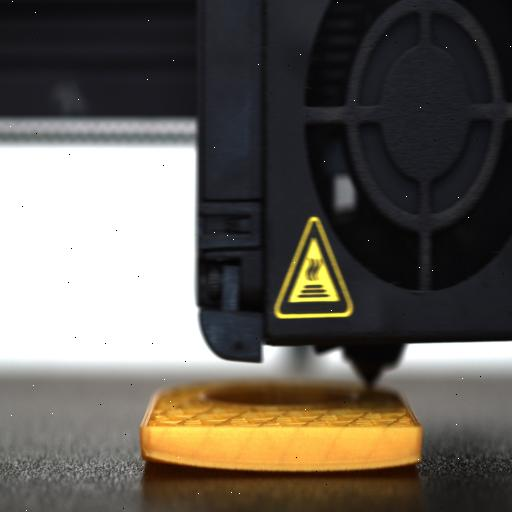warp: (149, 446, 423, 474)
